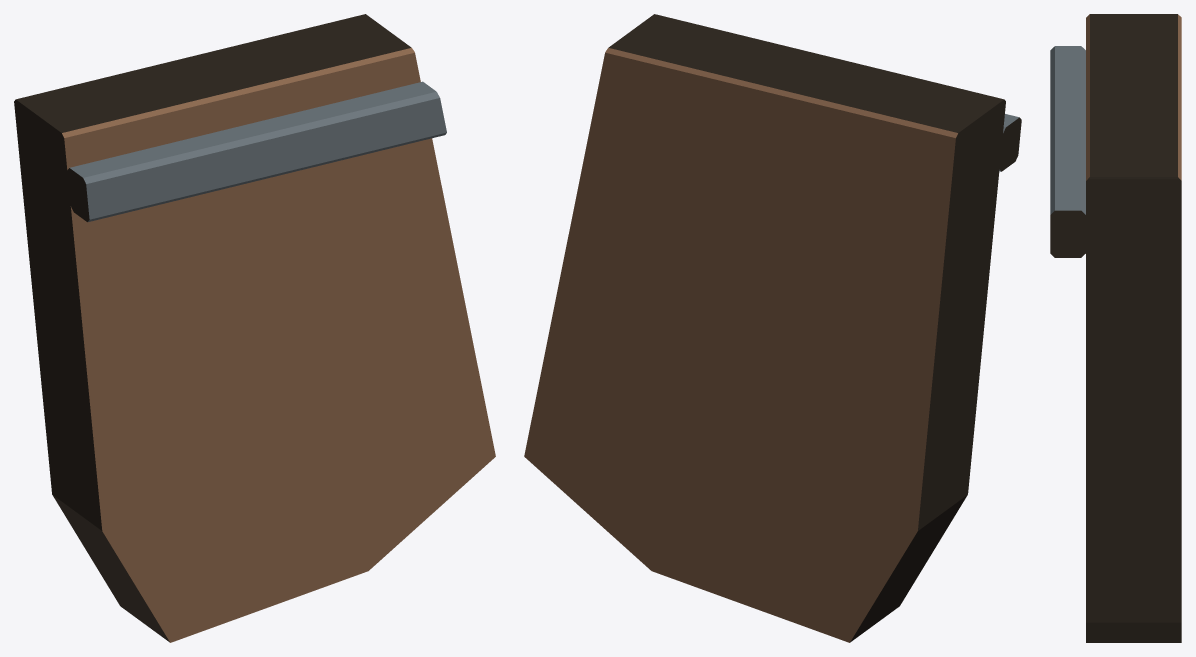
The model's file is SM_DoorShard_03_57.fbx.
3 views of the same model, side by side, from view 1: azimuth 30°, elevation 25°; view 2: azimuth 150°, elevation 25°; view 3: azimuth 270°, elevation 25° (orthographic). The views are drawn at different scales.
Visible parts, largest first — view 1: SM_DoorShard_03_57; view 2: SM_DoorShard_03_57; view 3: SM_DoorShard_03_57.
Boxes of the visible parts, x1,y1,x2,y2 form: SM_DoorShard_03_57: [14, 14, 495, 642]; SM_DoorShard_03_57: [524, 14, 1021, 642]; SM_DoorShard_03_57: [1050, 14, 1181, 642].
Bounding box in the file's own units: 79.54 × 22 × 94.
